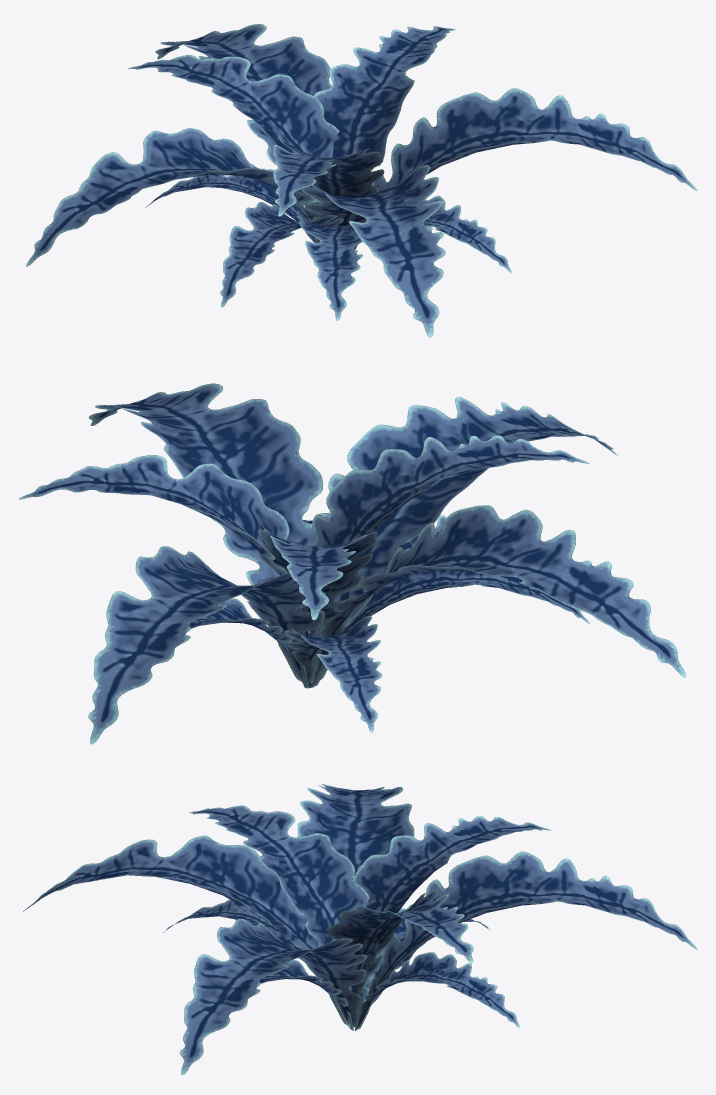
Rendered from MarshFern_a01.fbx.
3 views of the same model, one above another, from view 1: azimuth 30°, elevation 25°; view 2: azimuth 150°, elevation 25°; view 3: azimuth 270°, elevation 25° (orthographic). The views are drawn at different scales.
Visible parts, largest first — view 1: Fern_a01; view 2: Fern_a01; view 3: Fern_a01.
Part boxes in pixels (x1,y1,x2,y2): Fern_a01: (26, 24, 697, 337); Fern_a01: (19, 383, 686, 744); Fern_a01: (23, 784, 697, 1074).
Bounding box in the file's own units: 611 × 187 × 639.
